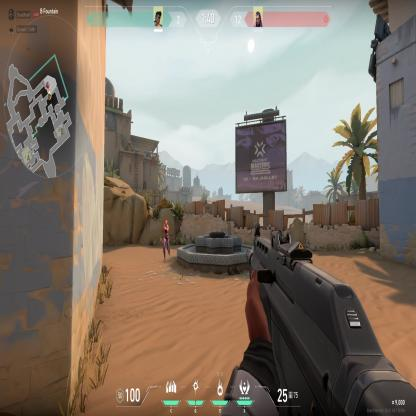enemy: (161, 216, 171, 262)
